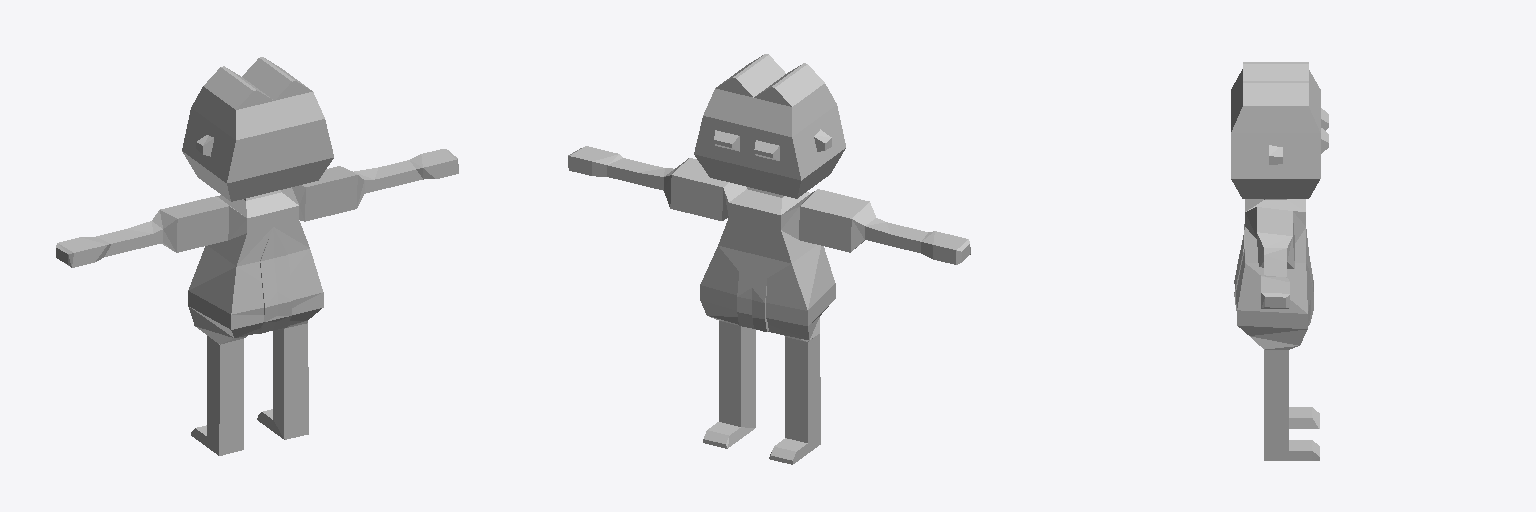
The model's file is pepe-parts.obj.
3 renders of one model, left to right at view 1: azimuth 30°, elevation 25°; view 2: azimuth 150°, elevation 25°; view 3: azimuth 270°, elevation 25°, orthographic.
Visible parts, largest first — view 1: Cube, reka_Cube.001, reka.001_Cube.002; view 2: Cube, reka_Cube.001, reka.001_Cube.002; view 3: Cube.
Boxes of the visible parts, x1=… form: Cube: x1=182, y1=57, x2=458, y2=455; reka_Cube.001: x1=152, y1=197, x2=228, y2=252; reka.001_Cube.002: x1=56, y1=221, x2=162, y2=267; Cube: x1=568, y1=54, x2=845, y2=464; reka_Cube.001: x1=799, y1=189, x2=875, y2=252; reka.001_Cube.002: x1=865, y1=218, x2=970, y2=264; Cube: x1=1231, y1=62, x2=1328, y2=460.
Size of the model in its own units: 14.94 by 13.3 by 3.23.